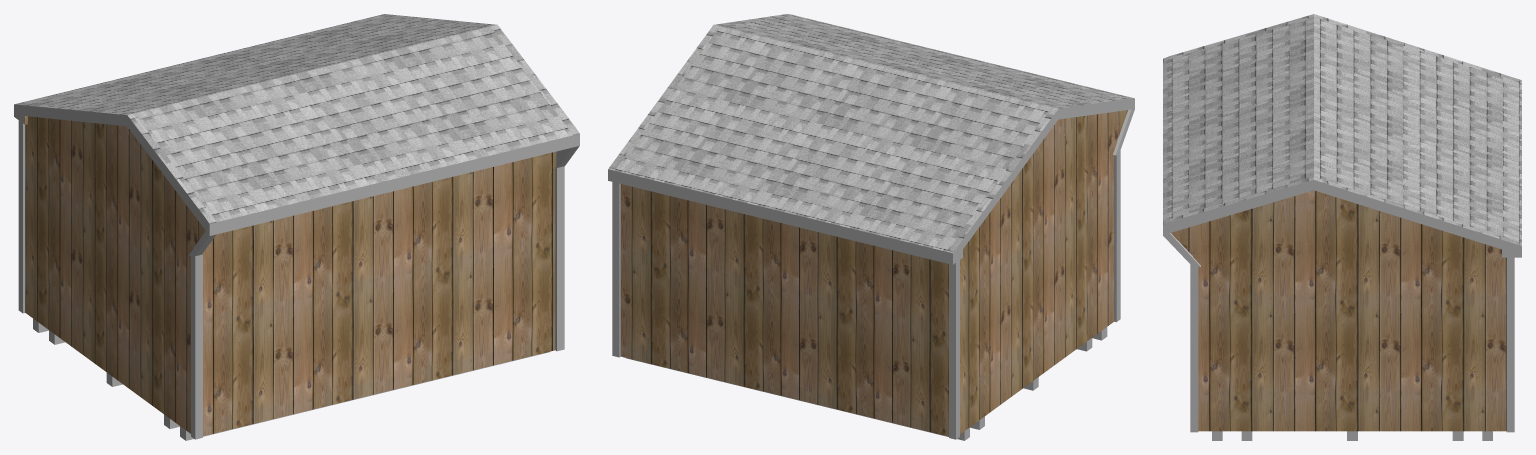
File: Quaker Sheds_10x12.obj
The picture shows the model from 3 angles, left to right: view 1: azimuth 30°, elevation 25°; view 2: azimuth 150°, elevation 25°; view 3: azimuth 270°, elevation 25°; orthographic projection. The views are drawn at different scales.
Parts seen in each view (by area): view 1: Shed, Roof, Sides, Trim, Floor; view 2: Shed, Roof, Sides, Trim, Floor; view 3: Shed, Roof, Sides, Trim, Floor.
Boxes of the visible parts, left/top/right/bottom form: Shed: left=25, top=116, right=556, bottom=436; Roof: left=15, top=14, right=579, bottom=223; Sides: left=14, top=104, right=579, bottom=258; Trim: left=18, top=120, right=564, bottom=439; Floor: left=33, top=318, right=549, bottom=440; Shed: left=620, top=110, right=1127, bottom=436; Roof: left=608, top=14, right=1133, bottom=253; Sides: left=608, top=98, right=1134, bottom=264; Trim: left=612, top=150, right=1120, bottom=439; Floor: left=626, top=327, right=1107, bottom=440; Shed: left=1171, top=190, right=1506, bottom=431; Roof: left=1163, top=14, right=1521, bottom=245; Sides: left=1163, top=180, right=1521, bottom=266; Trim: left=1190, top=257, right=1514, bottom=432; Floor: left=1212, top=431, right=1492, bottom=440.
Bounding box in the file's own units: 3.72 × 2.74 × 3.4.
